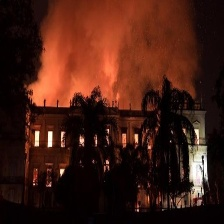fire: (33, 128, 66, 150)
smoke: (35, 2, 202, 99)
